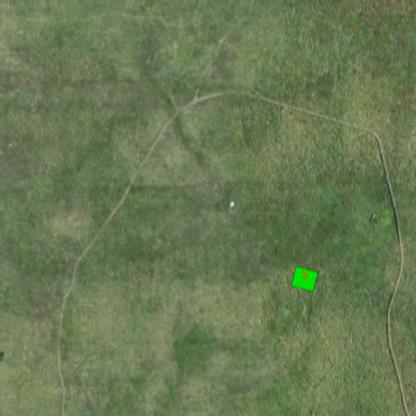J: (301, 269, 309, 280)
rectangle: (287, 262, 318, 293)
